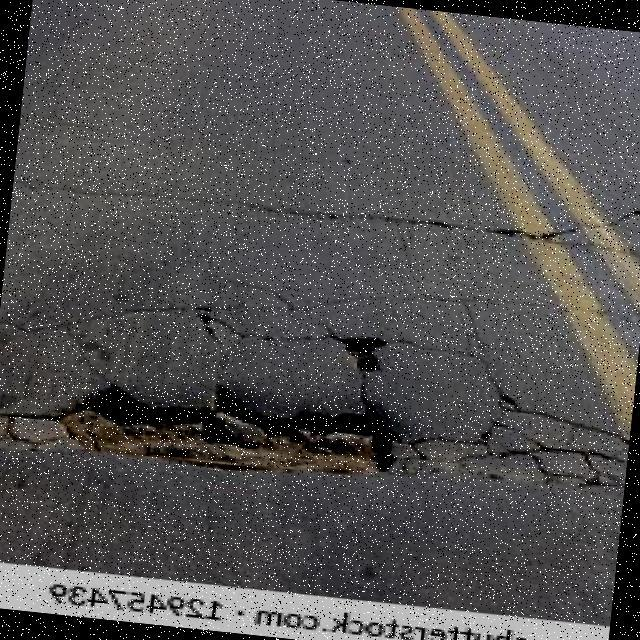Pothole: (54, 327, 398, 474)
